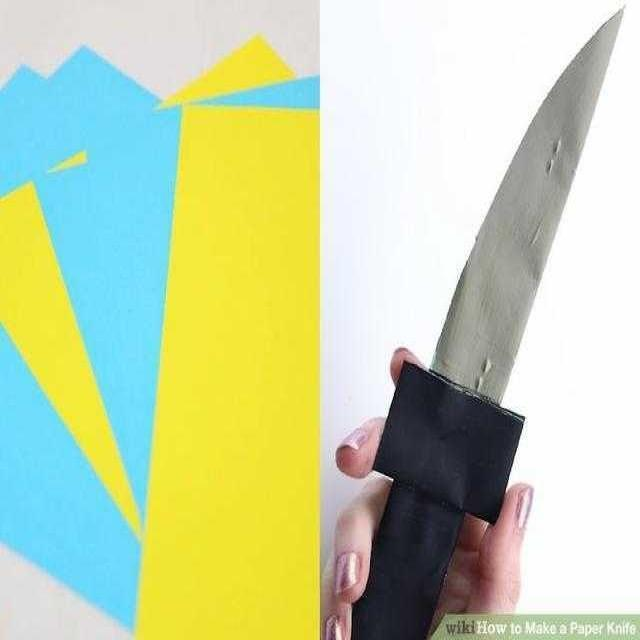knife: (351, 1, 639, 640)
